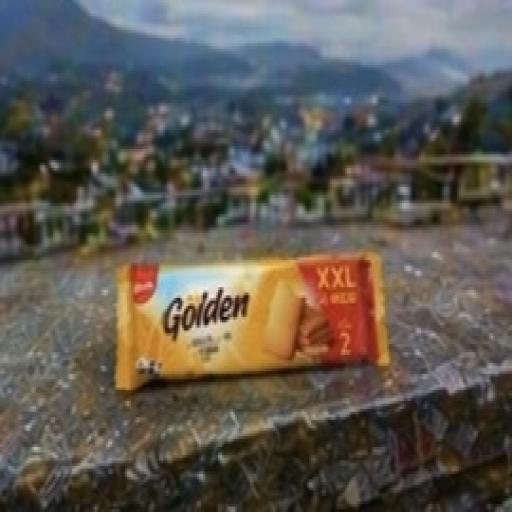golden: (86, 194, 419, 452)
